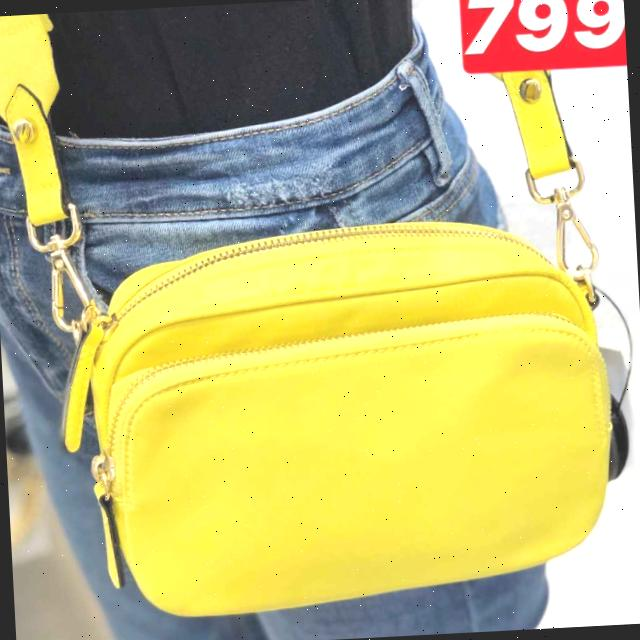Handbag: (62, 207, 640, 628)
